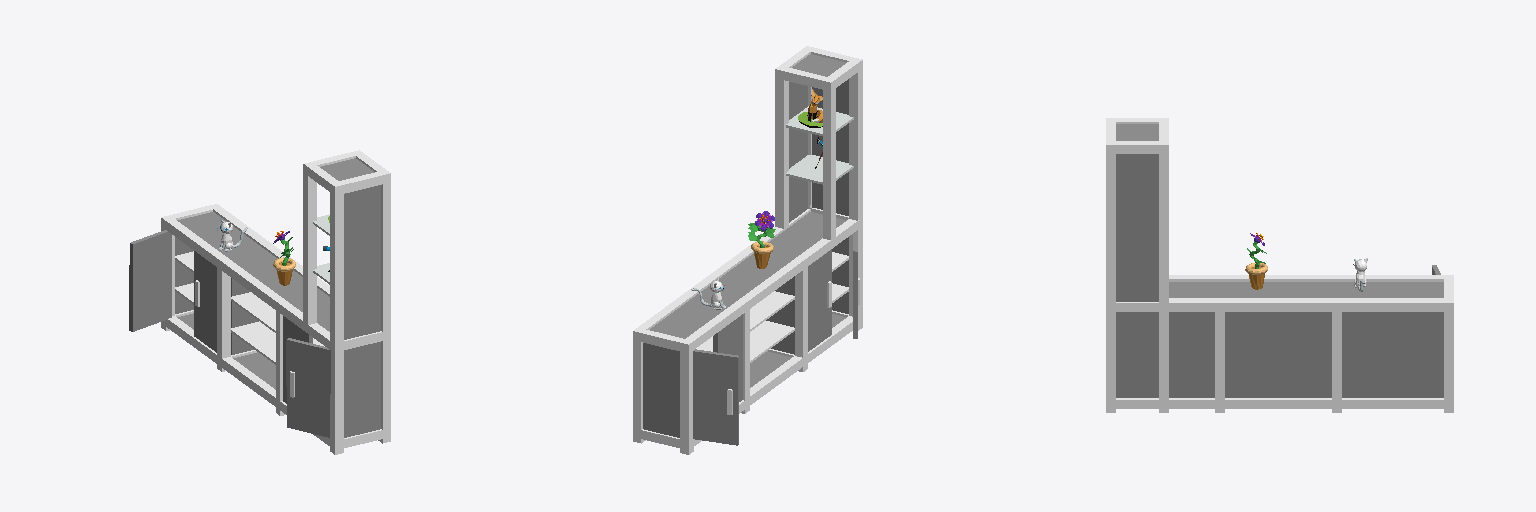
3 renders of one model, left to right at view 1: azimuth 30°, elevation 25°; view 2: azimuth 150°, elevation 25°; view 3: azimuth 270°, elevation 25°, orthographic.
Parts seen in each view (by area): view 1: group[number redacted], group[number redacted], group[number redacted], group[number redacted], group[number redacted], group[number redacted], group[number redacted], group[number redacted], group[number redacted], group[number redacted], group[number redacted], group[number redacted] (+13 smaller); view 2: group[number redacted], group[number redacted], group[number redacted], group[number redacted], group[number redacted], group[number redacted], group[number redacted], group[number redacted], group[number redacted], group[number redacted], group[number redacted], group[number redacted] (+20 smaller); view 3: group[number redacted], group[number redacted], group[number redacted], group[number redacted], group[number redacted], group[number redacted], group[number redacted], group[number redacted], group[number redacted], group[number redacted], group[number redacted], group[number redacted] (+2 smaller).
Boxes of the visible parts, <box> form: group[number redacted]: <box>344,185,380,339</box>; group[number redacted]: <box>129,230,171,331</box>; group[number redacted]: <box>286,338,330,437</box>; group[number redacted]: <box>177,212,329,331</box>; group[number redacted]: <box>344,342,380,437</box>; group[number redacted]: <box>378,170,390,443</box>; group[number redacted]: <box>330,193,343,353</box>; group[number redacted]: <box>303,162,316,324</box>; group[number redacted]: <box>162,216,284,310</box>; group[number redacted]: <box>194,251,216,352</box>; group[number redacted]: <box>166,316,334,449</box>; group[number redacted]: <box>330,351,343,454</box>; group[number redacted]: <box>650,212,846,338</box>; group[number redacted]: <box>693,349,738,445</box>; group[number redacted]: <box>643,343,679,437</box>; group[number redacted]: <box>823,77,835,239</box>; group[number redacted]: <box>775,78,788,228</box>; group[number redacted]: <box>849,69,862,220</box>; group[number redacted]: <box>682,258,803,351</box>; group[number redacted]: <box>808,249,831,351</box>; group[number redacted]: <box>812,79,848,215</box>; group[number redacted]: <box>789,82,807,222</box>; group[number redacted]: <box>694,314,862,445</box>; group[number redacted]: <box>680,341,693,454</box>; group[number redacted]: <box>1116,312,1443,397</box>; group[number redacted]: <box>1116,154,1158,301</box>; group[number redacted]: <box>1169,282,1443,297</box>; group[number redacted]: <box>1116,298,1443,311</box>; group[number redacted]: <box>1116,398,1443,408</box>; group[number redacted]: <box>1106,141,1115,412</box>; group[number redacted]: <box>1159,154,1168,412</box>; group[number redacted]: <box>1223,275,1451,281</box>; group[number redacted]: <box>1215,298,1224,412</box>; group[number redacted]: <box>1332,298,1341,412</box>; group[number redacted]: <box>1444,312,1453,412</box>; group[number redacted]: <box>1116,124,1158,140</box>.
Size of the model in its own units: 0.4477 by 1.2 by 1.4.